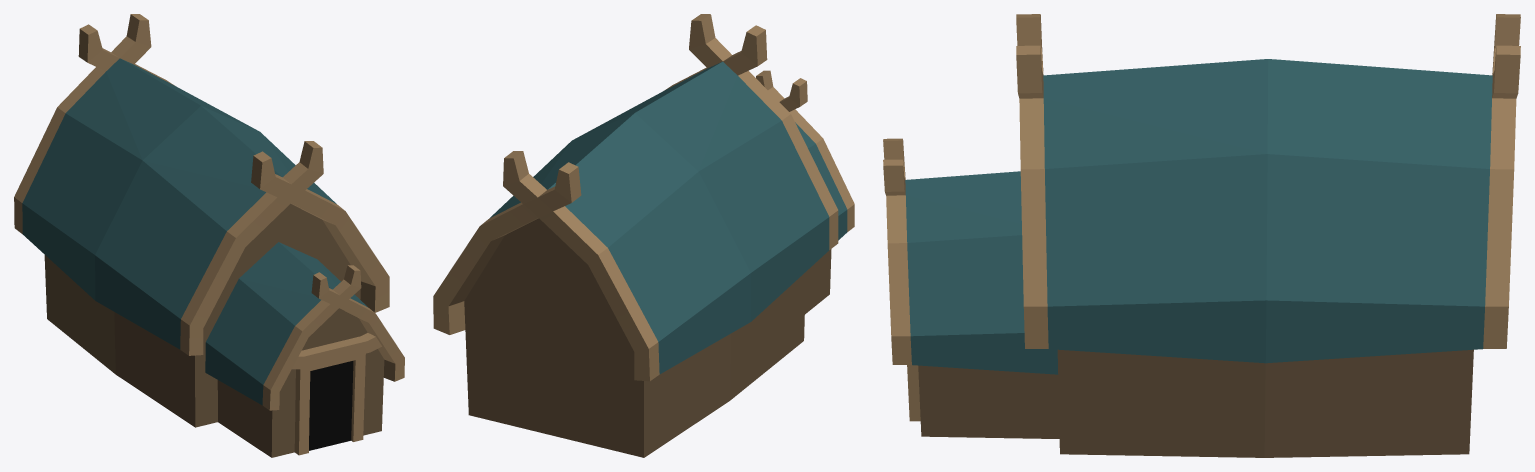
Rendered from House_Tiny6.fbx.
3 views of the same model, side by side, from view 1: azimuth 30°, elevation 25°; view 2: azimuth 150°, elevation 25°; view 3: azimuth 270°, elevation 25° (orthographic). The views are drawn at different scales.
Parts seen in each view (by area): view 1: SM_Bld_Viking_House_02; view 2: SM_Bld_Viking_House_02; view 3: SM_Bld_Viking_House_02.
Boxes of the visible parts, bbox=[...] form: SM_Bld_Viking_House_02: bbox=[14, 14, 404, 457]; SM_Bld_Viking_House_02: bbox=[433, 14, 854, 457]; SM_Bld_Viking_House_02: bbox=[883, 14, 1520, 457].
Size of the model in its own units: 87.35 by 104 by 164.
